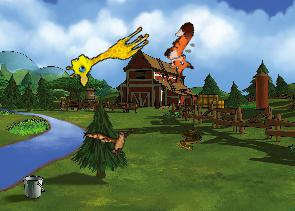eagle: (83, 115, 140, 165)
fox: (155, 19, 213, 81)
giraffe: (62, 15, 153, 91)
